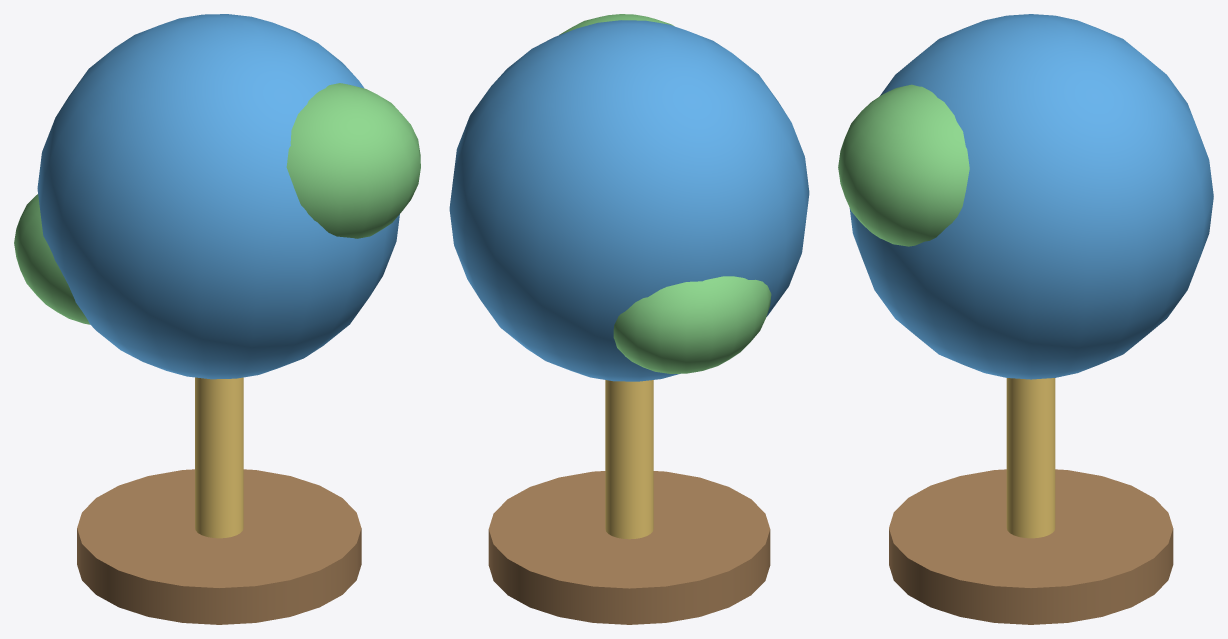
File: globe.glb
The picture shows the model from 3 angles, left to right: view 1: azimuth 30°, elevation 25°; view 2: azimuth 150°, elevation 25°; view 3: azimuth 270°, elevation 25°; orthographic projection.
Visible parts, largest first — view 1: globe.glb; view 2: globe.glb; view 3: globe.glb.
Boxes of the visible parts, x1,y1,x2,y2 form: globe.glb: (14,14,420,624); globe.glb: (449,14,809,624); globe.glb: (838,14,1213,624).
Bounding box in the file's own units: 0.18 × 0.29 × 0.185.
